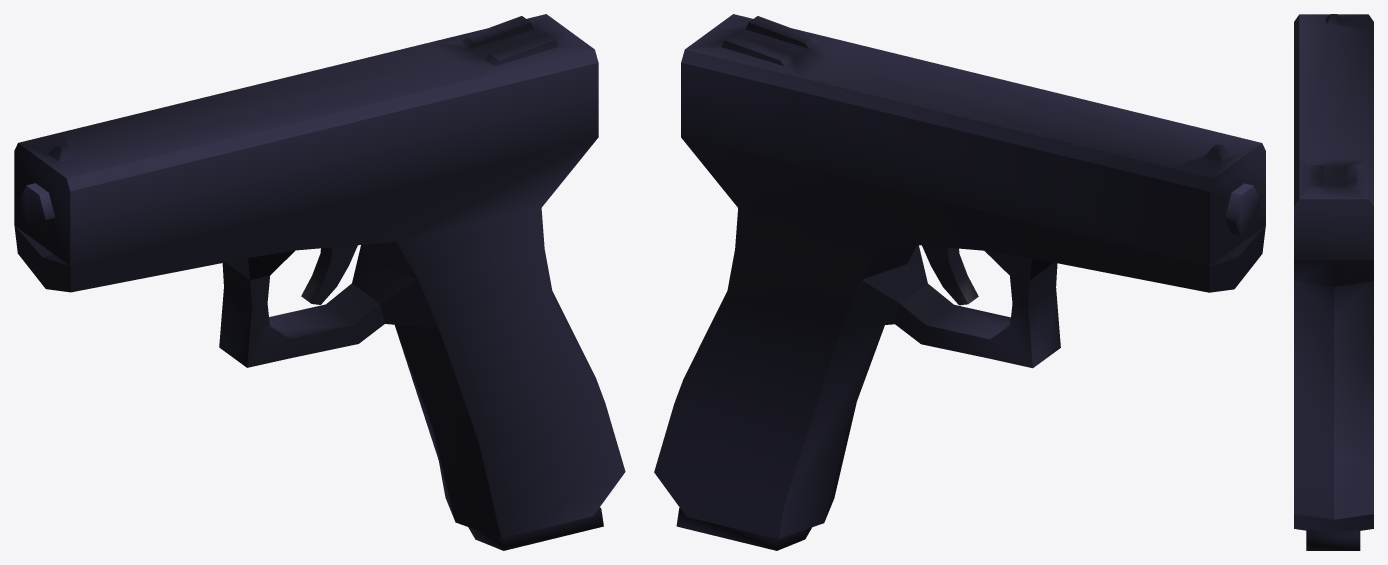
The model's file is Pistol.glb.
The picture shows the model from 3 angles, left to right: view 1: azimuth 30°, elevation 25°; view 2: azimuth 150°, elevation 25°; view 3: azimuth 270°, elevation 25°; orthographic projection. The views are drawn at different scales.
Visible parts, largest first — view 1: Pistol, Pistol.Slide, Pistol.Trigger, Pistol.Mag, Pistol.Barrel; view 2: Pistol, Pistol.Slide, Pistol.Trigger, Pistol.Mag, Pistol.Barrel; view 3: Pistol, Pistol.Slide, Pistol.Mag.
Part boxes in pixels (x1,y1,x2,y2): Pistol: [14, 137, 625, 538]; Pistol.Slide: [14, 14, 598, 266]; Pistol.Trigger: [301, 245, 357, 304]; Pistol.Mag: [468, 507, 603, 550]; Pistol.Barrel: [19, 183, 55, 235]; Pistol: [654, 137, 1265, 538]; Pistol.Slide: [681, 14, 1265, 266]; Pistol.Trigger: [922, 245, 978, 305]; Pistol.Mag: [676, 508, 811, 550]; Pistol.Barrel: [1225, 183, 1260, 236]; Pistol: [1294, 260, 1373, 534]; Pistol.Slide: [1294, 14, 1373, 260]; Pistol.Mag: [1306, 529, 1360, 550].
Bounding box in the file's own units: 1.87 × 1.53 × 0.3117.
